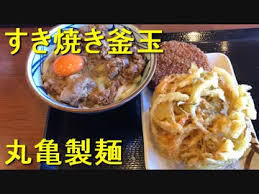kakiage: (155, 78, 249, 158)
